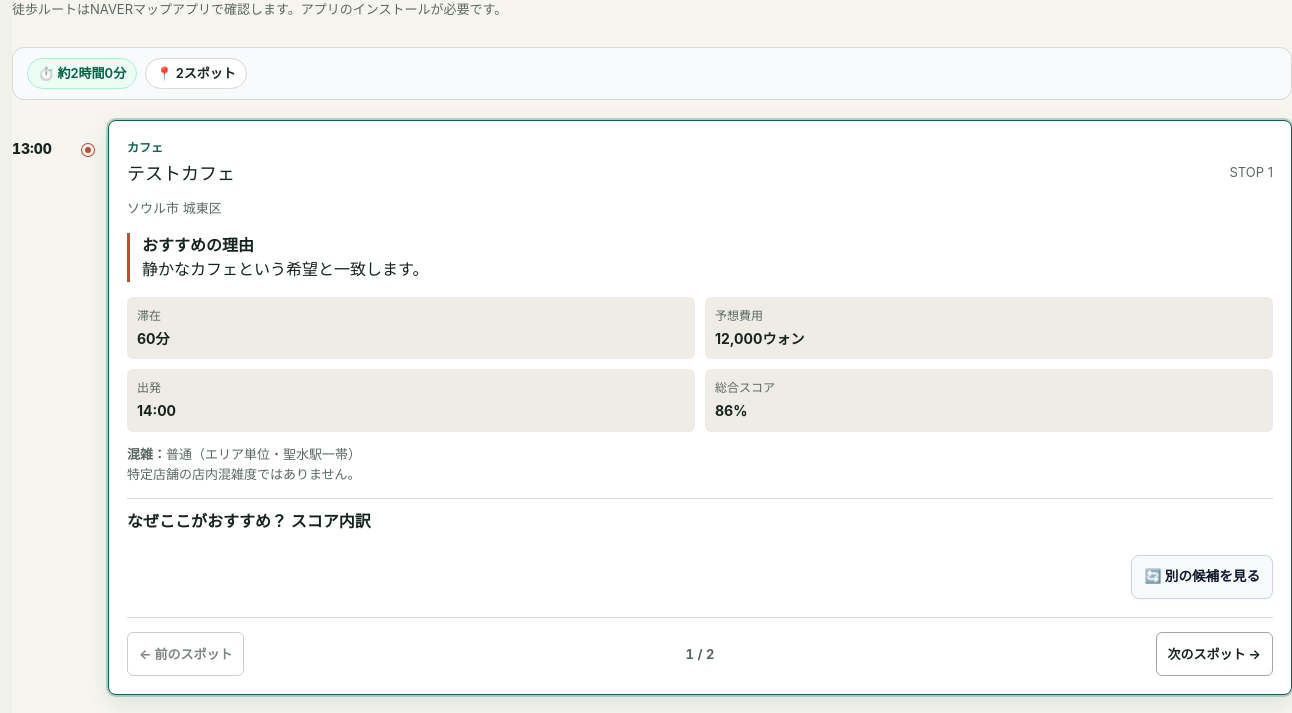
Scenario: trip detail editing › shows one place description at a time and advances with the next arrow
(page scrolled)
Check: the heading "テストカフェ" is shown, box [127,162,235,186]
Check: the heading "テストショップ" is not shown
Click the button "次のスポット →". click: x=1214, y=654
box: [1156,632,1273,676]
(page scrolled)
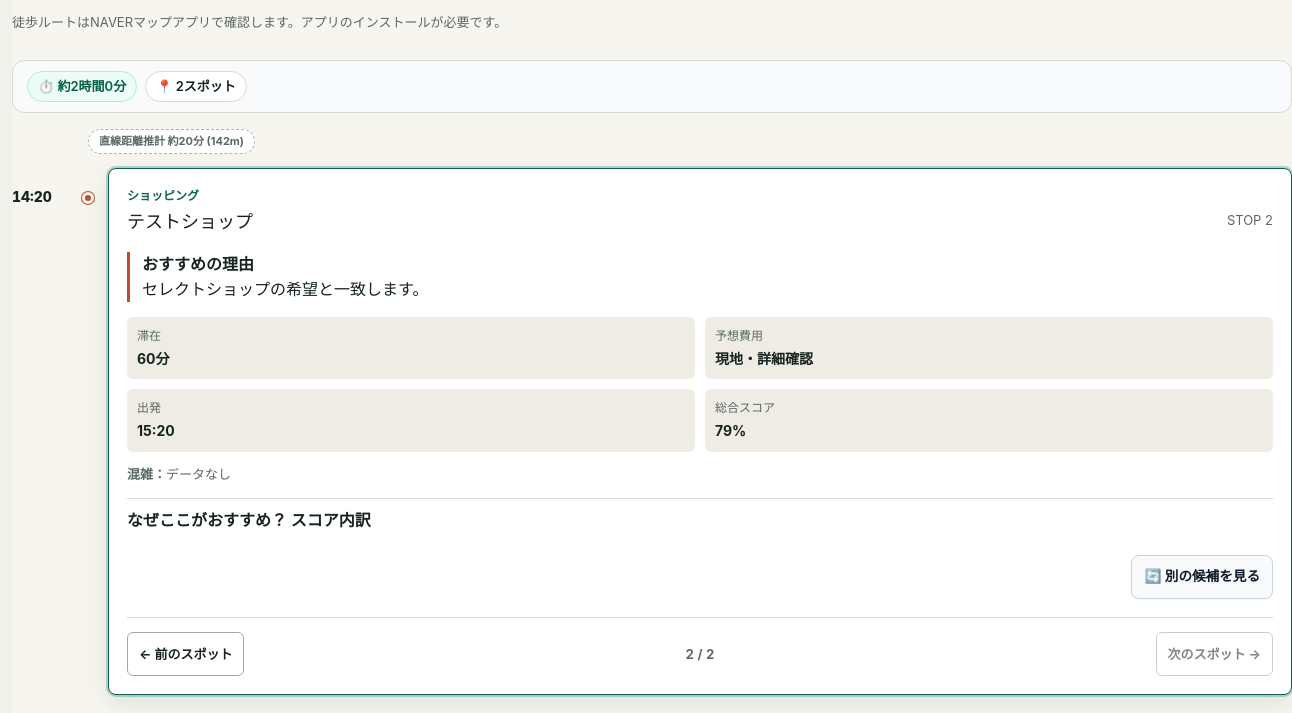
Check: the heading "テストカフェ" is not shown
Check: the heading "テストショップ" is shown, box [127,210,253,234]
